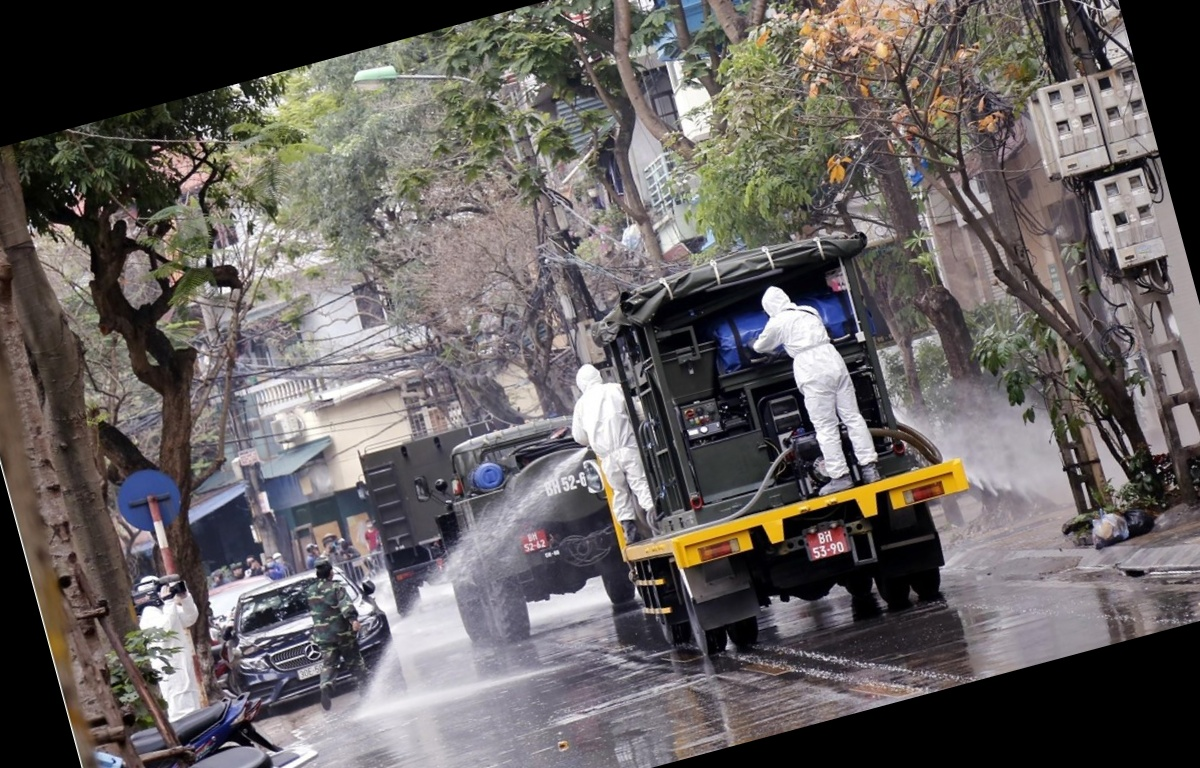plate: (803, 527, 852, 561), (519, 522, 550, 555)
